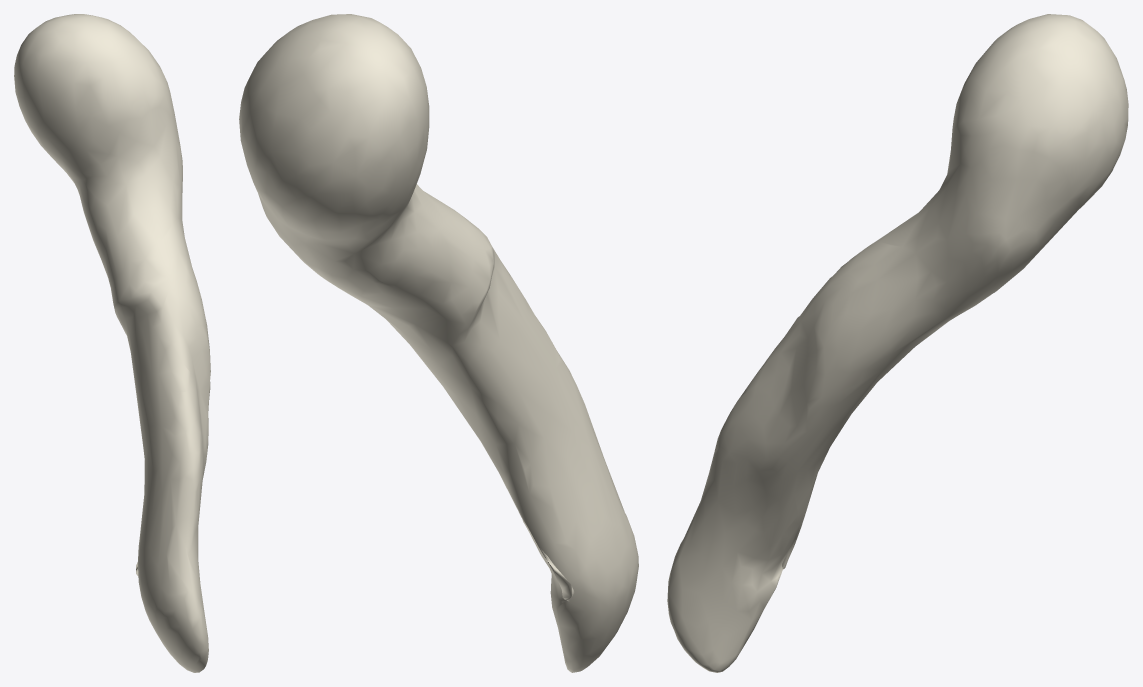
Rendered from fma55118_mm1178.glb.
3 views of the same model, side by side, from view 1: azimuth 30°, elevation 25°; view 2: azimuth 150°, elevation 25°; view 3: azimuth 270°, elevation 25° (orthographic). The views are drawn at different scales.
Visible parts, largest first — view 1: FMA55118_MM1178; view 2: FMA55118_MM1178; view 3: FMA55118_MM1178.
Boxes of the visible parts, x1,y1,x2,y2 form: FMA55118_MM1178: (14,14,210,672); FMA55118_MM1178: (239,14,638,672); FMA55118_MM1178: (667,14,1128,672).
Bounding box in the file's own units: 0.00197 × 0.00739 × 0.00466.
